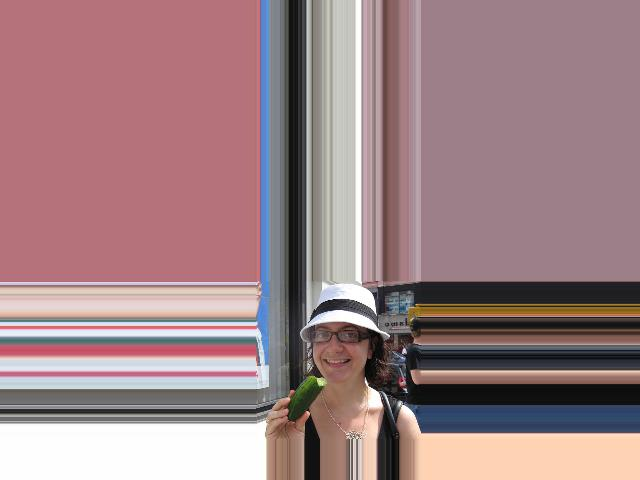cucumber: (285, 376, 326, 421)
